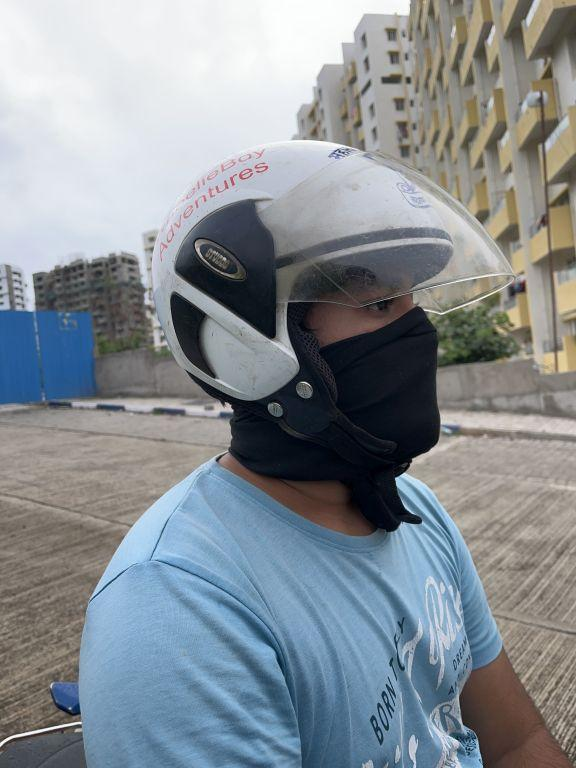helmet: (145, 119, 524, 473)
